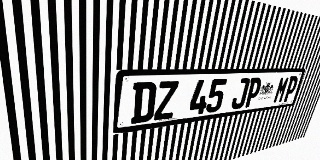4: (188, 79, 211, 116)
5: (205, 79, 227, 113)
D: (130, 81, 157, 124)
J: (230, 78, 251, 110)
M: (272, 76, 290, 104)
P: (243, 77, 263, 108), (282, 76, 299, 102)
Z: (153, 81, 179, 121)
